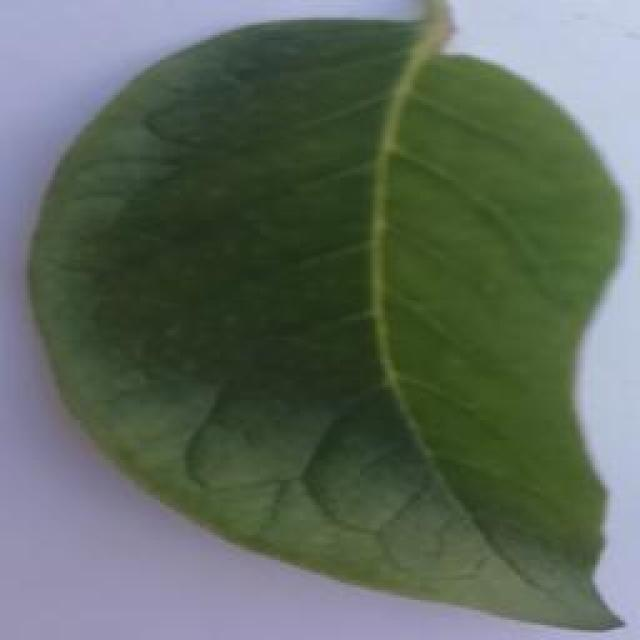Potato_Healthy: (27, 8, 621, 629)
